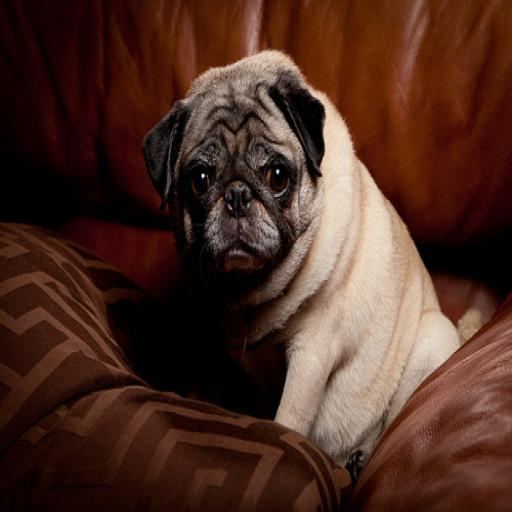dog_face: (141, 79, 325, 273)
